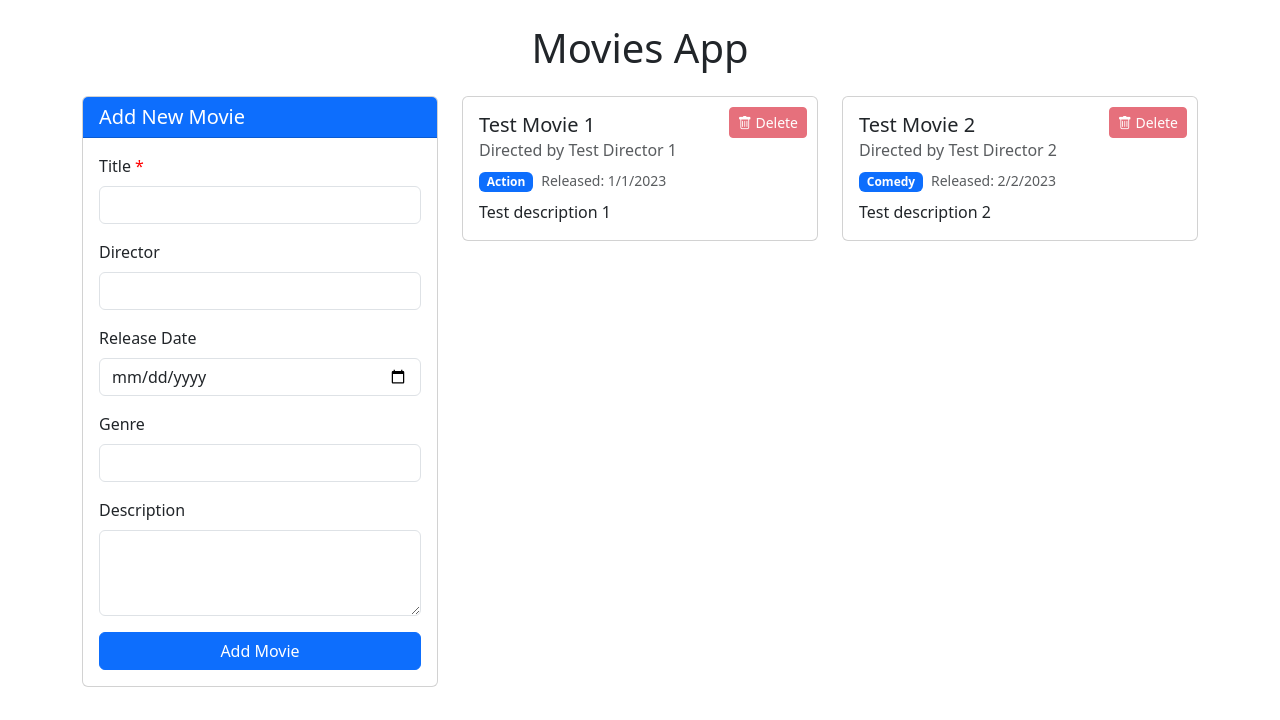
Test case: App Component › deletes a movie successfully
The width and height of the screenshot is (1280, 720).
Click delete button for the first movie
Click the button with test id "delete-button-1" at (768, 122), box [729, 107, 807, 138]
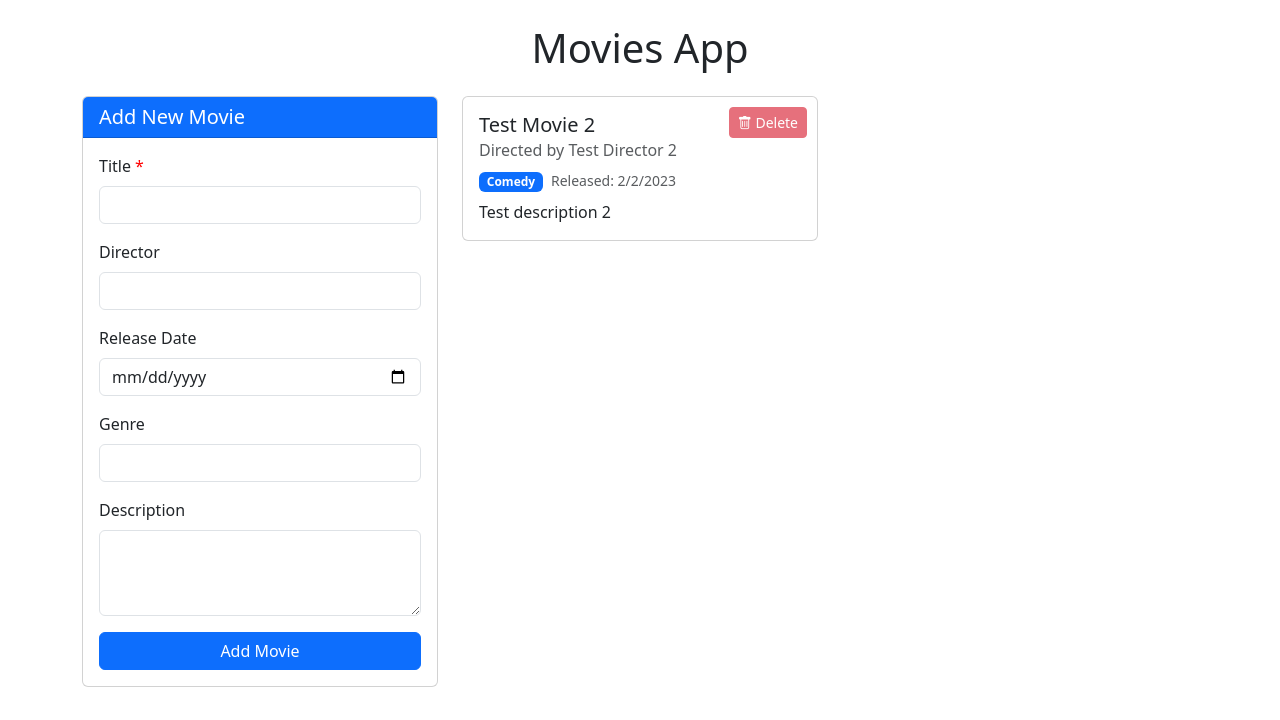
Check: the heading "Test Movie 2" is shown, box [479, 111, 595, 138]
Check: the heading "Test Movie 1" is gone
